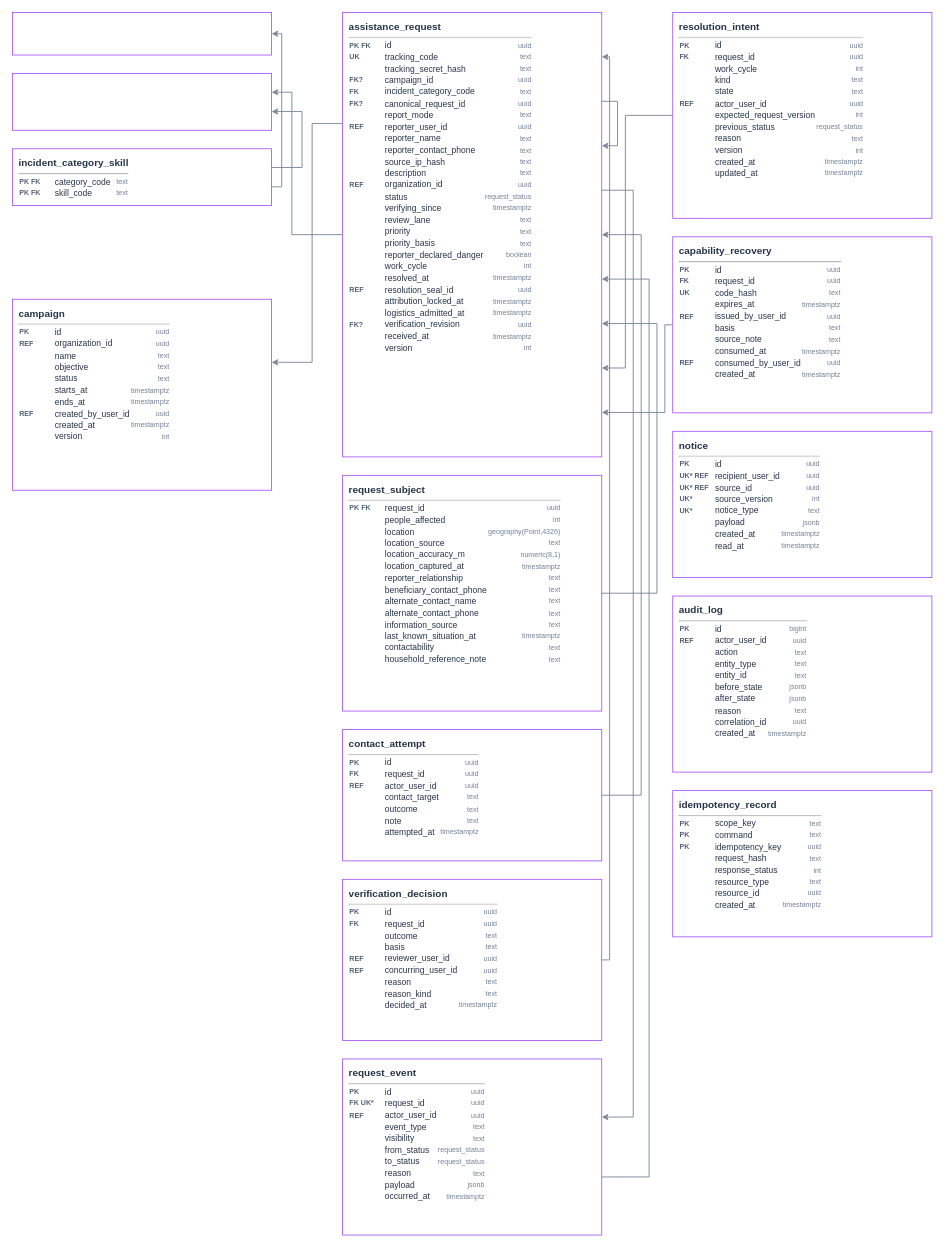
The diagram is 945 pixels wide and 1250 high, and some of its shapes have lost their labels. The shapes that lost their labels are listed below. From the top down, each one's centre as x and y in pixels, then its label:
At point (142, 33): "skill PK code text".
At point (142, 101): "incident_category PK code text display_name text".
